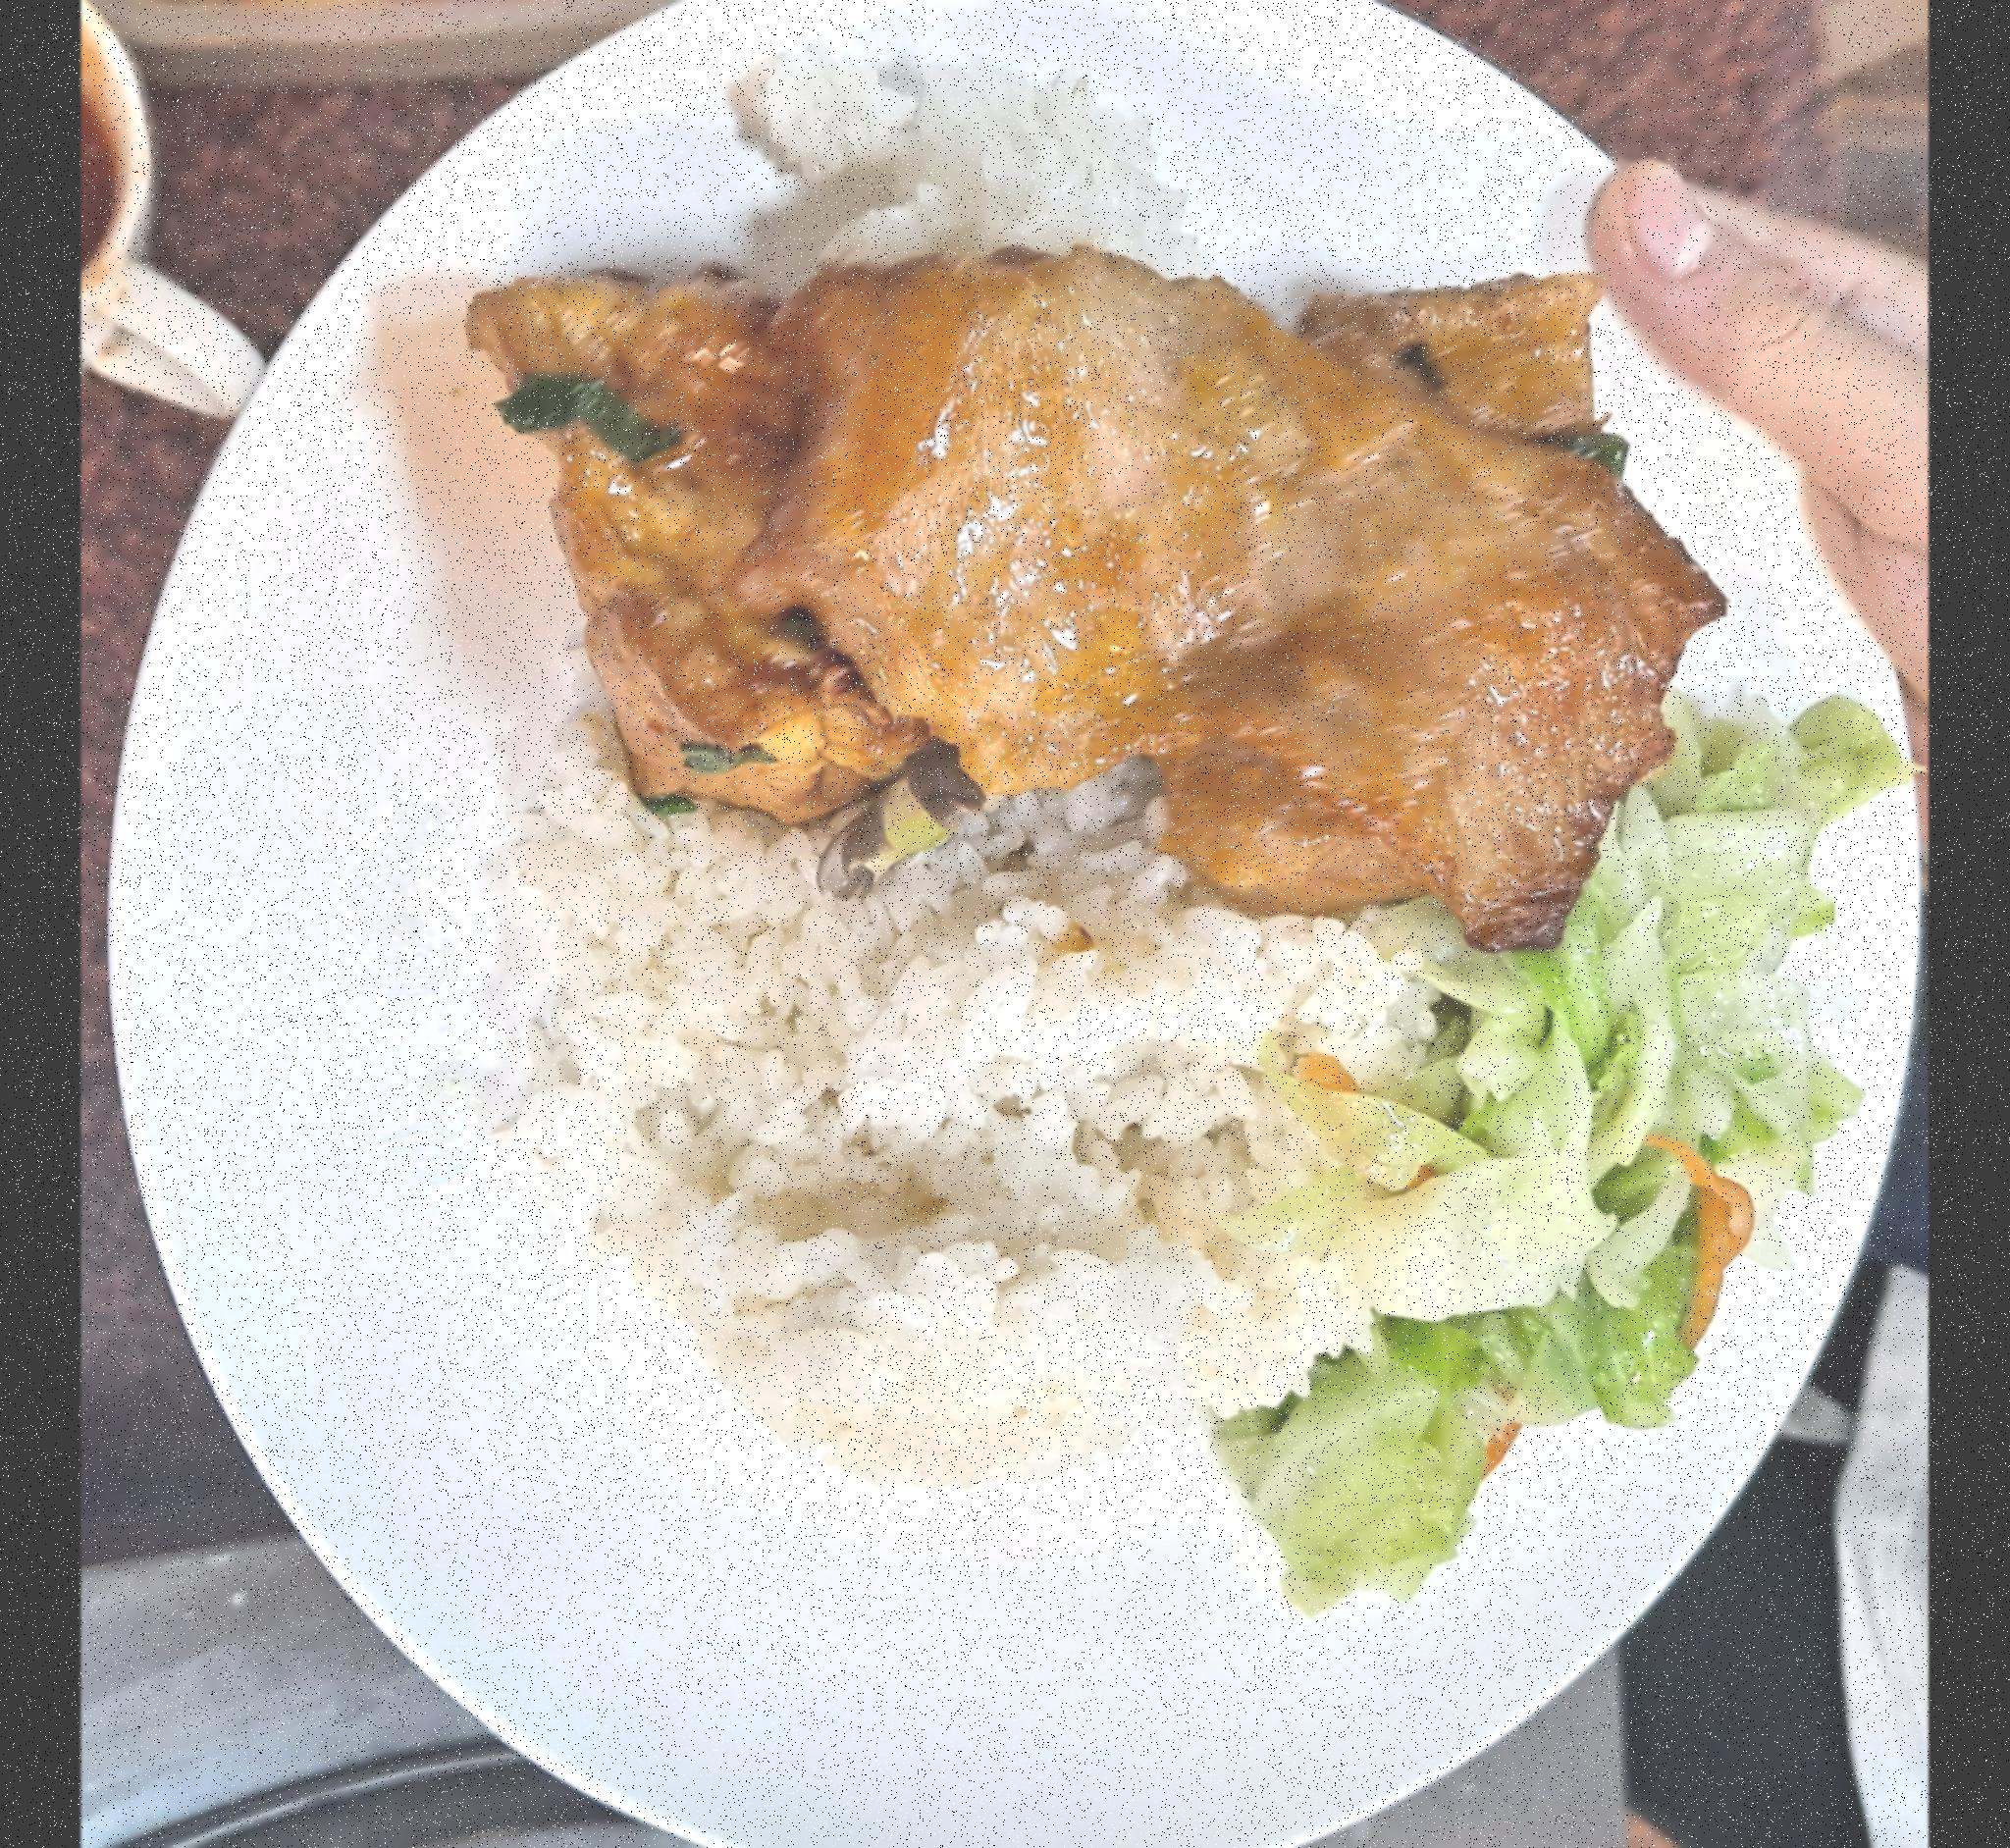big fried chicken leg: (93, 0, 1917, 1848)
big herbal chicken leg: (513, 742, 1436, 1473)
braised fish fillet: (1229, 709, 1903, 1610), (469, 243, 919, 829)
braised pork: (772, 243, 1725, 950)
